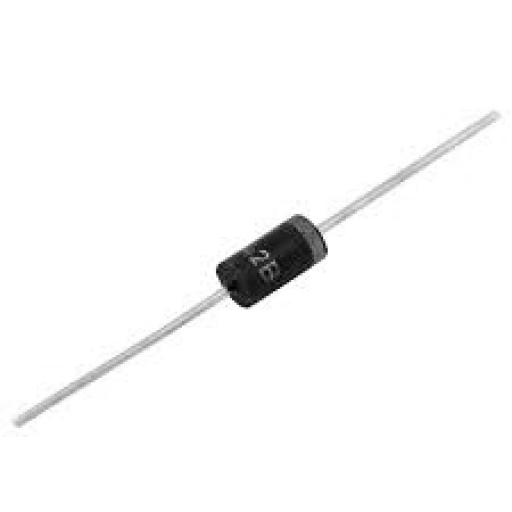DIODE: (9, 104, 501, 428)
